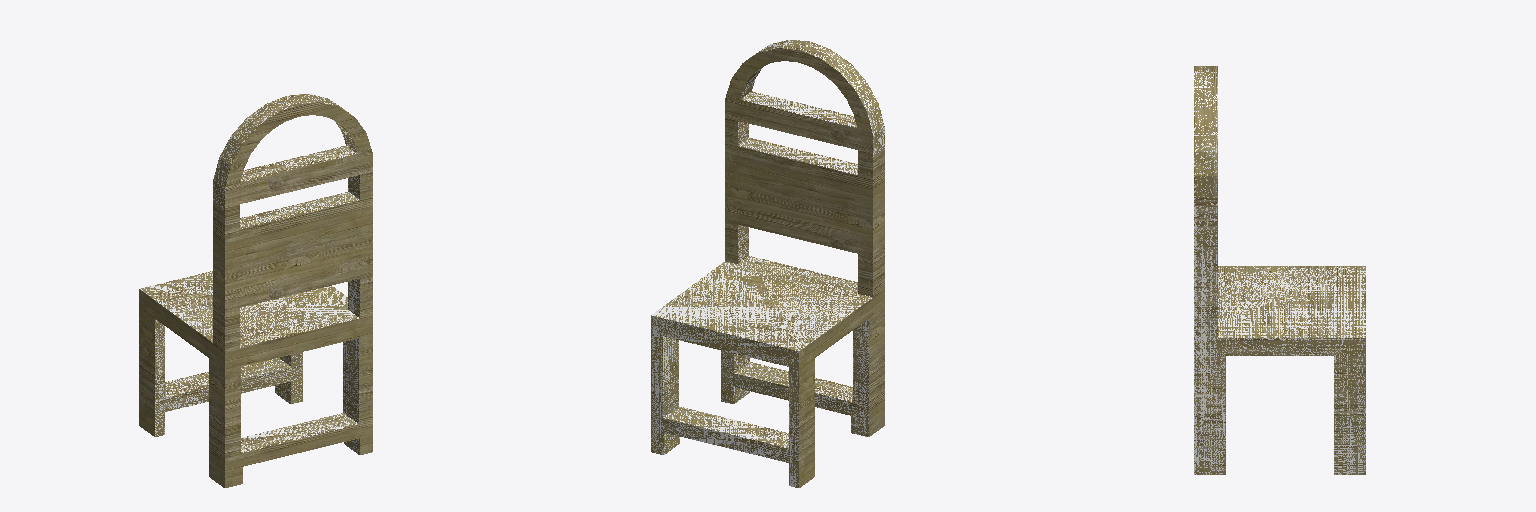
3 renders of one model, left to right at view 1: azimuth 30°, elevation 25°; view 2: azimuth 150°, elevation 25°; view 3: azimuth 270°, elevation 25°, orthographic.
Parts seen in each view (by area): view 1: mesh1_mesh1-geometry; view 2: mesh1_mesh1-geometry; view 3: mesh1_mesh1-geometry.
Part boxes in pixels (left/top/right/bottom): mesh1_mesh1-geometry: left=139, top=94, right=372, bottom=487; mesh1_mesh1-geometry: left=651, top=40, right=884, bottom=487; mesh1_mesh1-geometry: left=1194, top=66, right=1365, bottom=474.
Bounding box in the file's own units: 0.3631 × 0.8581 × 0.3631.
2 materials, 1 textured.